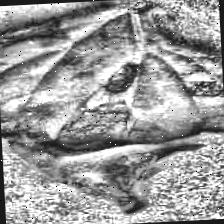disease: (0, 7, 224, 220)
